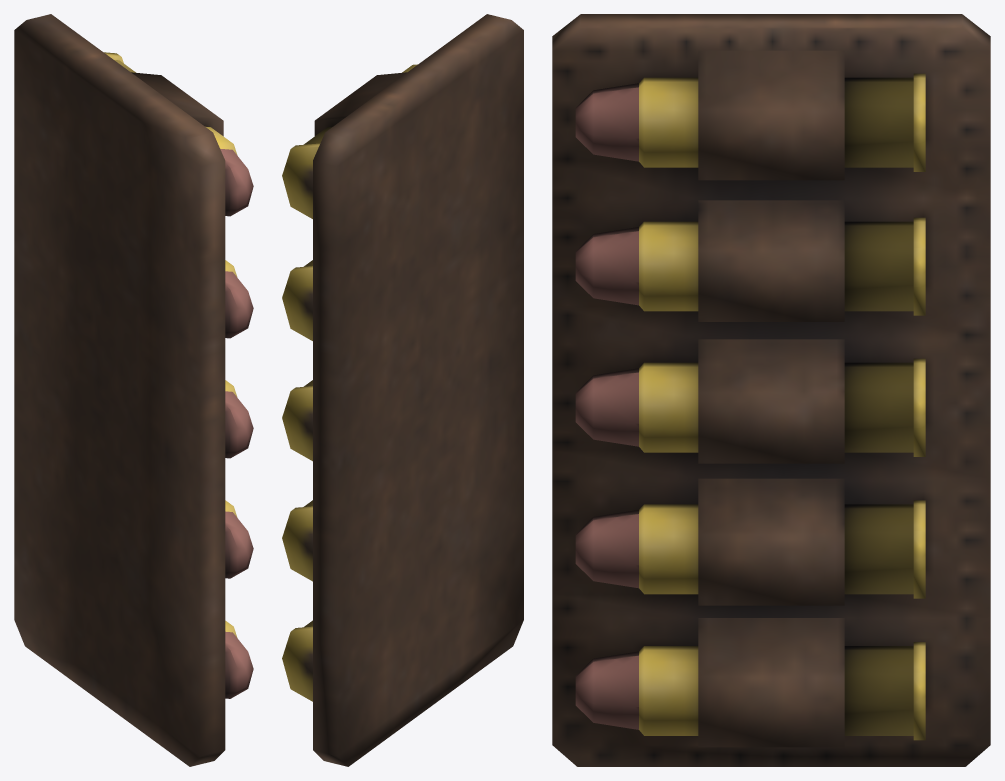
File: TLOG_LeatherAmmoCaddy.fbx
The picture shows the model from 3 angles, left to right: view 1: azimuth 30°, elevation 25°; view 2: azimuth 150°, elevation 25°; view 3: azimuth 270°, elevation 25°; orthographic projection. The views are drawn at different scales.
Parts seen in each view (by area): view 1: Cube.001; view 2: Cube.001; view 3: Cube.001.
Part boxes in pixels (bbox=[...]): Cube.001: bbox=[14, 14, 253, 766]; Cube.001: bbox=[282, 14, 523, 766]; Cube.001: bbox=[552, 14, 990, 766].
Bounding box in the file's own units: 0.00928 × 0.0654 × 0.0352.
